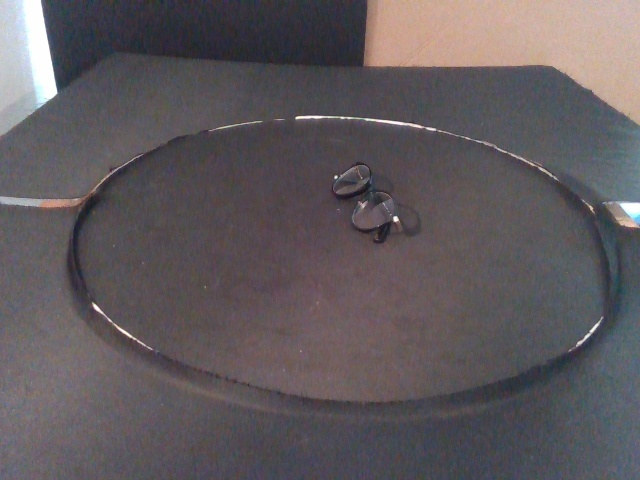glasses: (331, 161, 405, 246)
